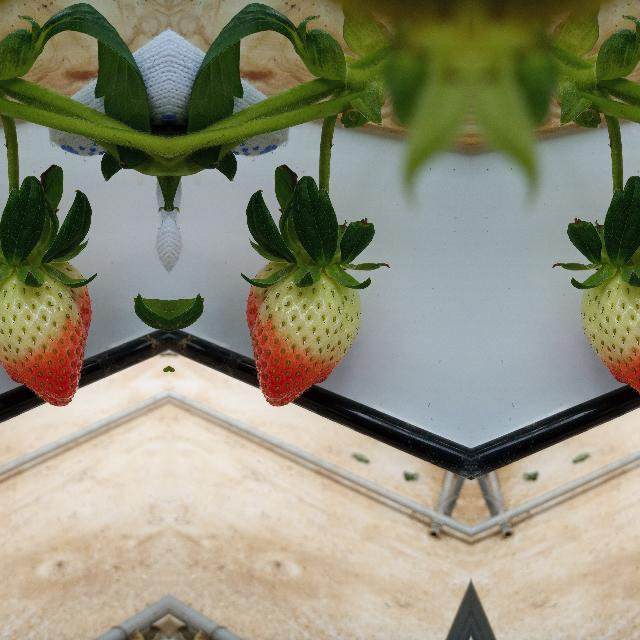Health_50: (244, 262, 360, 406), (0, 261, 92, 406), (581, 261, 640, 406)
